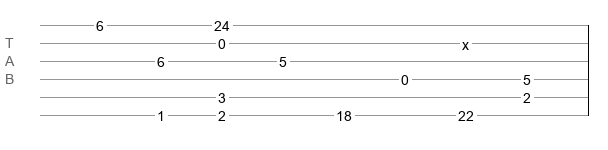0: (218, 36, 226, 46), (401, 72, 409, 82)
1: (157, 108, 165, 118)
18: (336, 108, 352, 118)
2: (218, 108, 226, 118), (523, 90, 531, 100)
22: (458, 108, 474, 118)
24: (214, 18, 230, 28)
3: (218, 90, 226, 100)
5: (279, 54, 287, 64), (523, 72, 531, 82)
6: (96, 18, 104, 28), (157, 54, 165, 64)
x: (462, 37, 469, 45)
